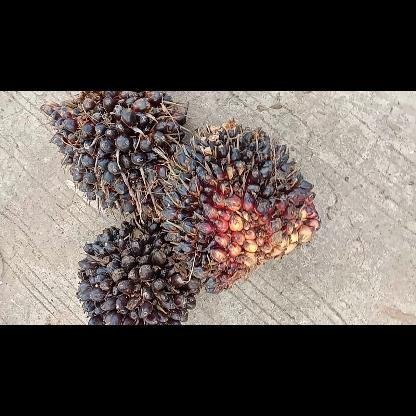TBS mentah: (151, 120, 325, 296), (35, 91, 187, 216), (75, 214, 206, 324)
